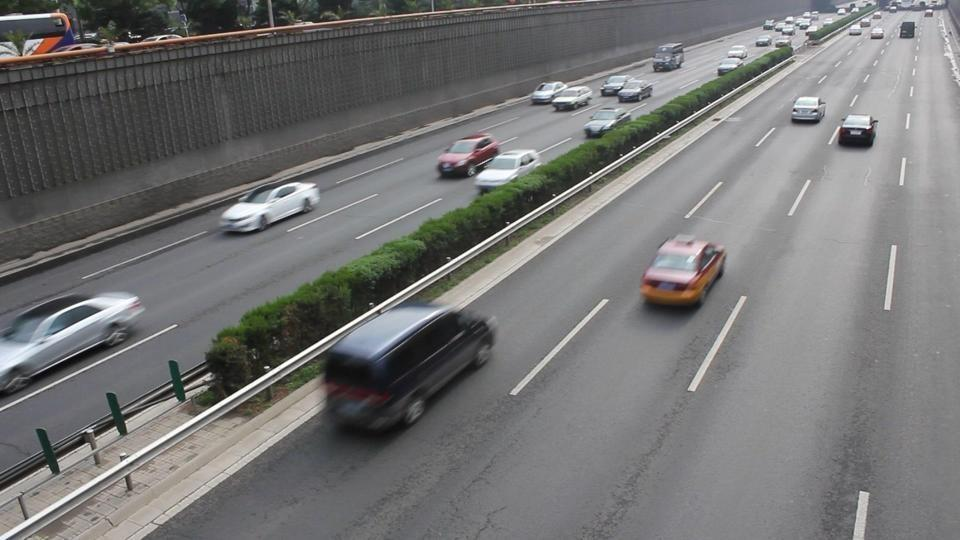car: (322, 300, 499, 436), (0, 291, 145, 393), (639, 235, 727, 307), (219, 180, 321, 235), (473, 148, 540, 193), (435, 133, 500, 179), (582, 107, 633, 138), (835, 113, 879, 148), (550, 86, 593, 111), (603, 77, 651, 99), (790, 96, 825, 123), (530, 80, 567, 105), (600, 76, 628, 96), (899, 19, 916, 38), (869, 25, 884, 39)
